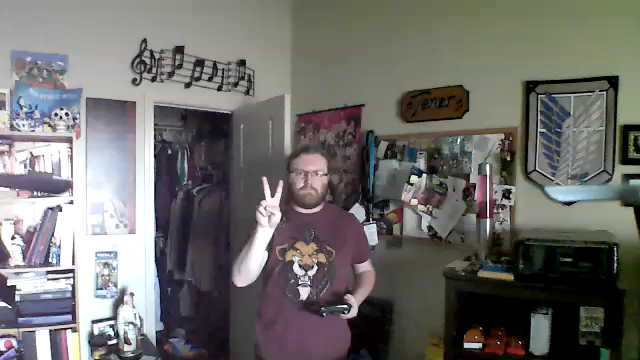peace: (246, 174, 291, 231)
